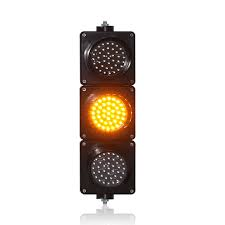amber: (76, 27, 139, 200), (82, 33, 135, 193), (85, 37, 131, 188)
